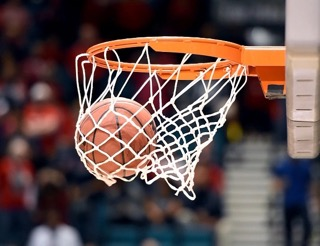MadeBasket: (74, 35, 248, 201)
